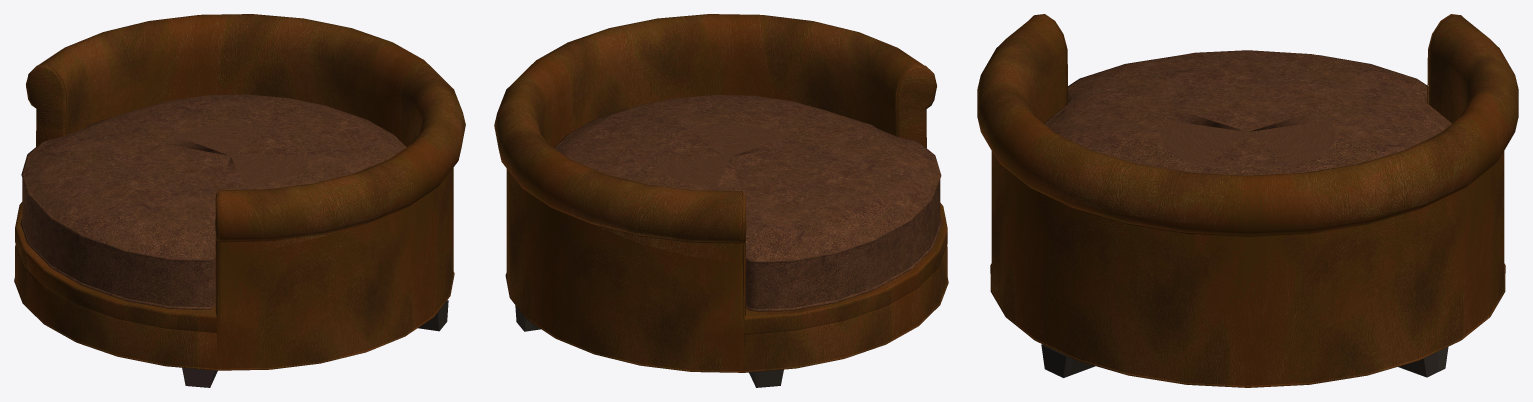
Rendered from round_leather_sofa.FBX.
The picture shows the model from 3 angles, left to right: view 1: azimuth 30°, elevation 25°; view 2: azimuth 150°, elevation 25°; view 3: azimuth 270°, elevation 25°; orthographic projection. The views are drawn at different scales.
Parts seen in each view (by area): view 1: round_leather_sofa; view 2: round_leather_sofa; view 3: round_leather_sofa.
Part boxes in pixels (x1,y1,x2,y2): round_leather_sofa: (14,14,465,387); round_leather_sofa: (494,14,948,387); round_leather_sofa: (977,14,1518,387).
Size of the model in its own units: 3.07 by 1.46 by 3.13.
Materials: 3 (3 with a texture image).
